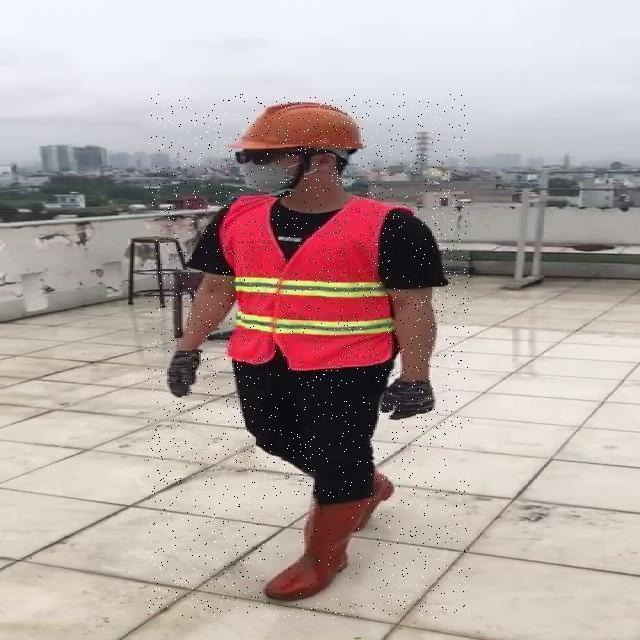gloves: (378, 377, 435, 424), (166, 345, 206, 399)
goggles: (233, 146, 311, 166)
helmet: (230, 97, 370, 157)
safety_vest: (220, 197, 398, 369)
